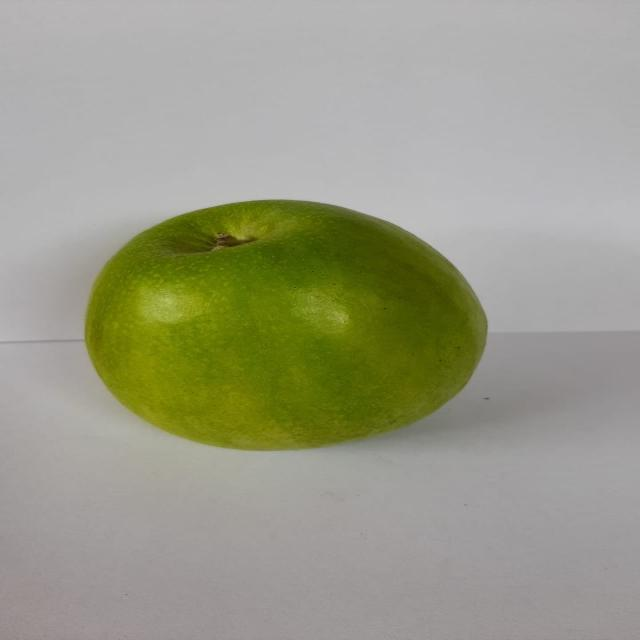50-_ripeness: (61, 194, 504, 460)
